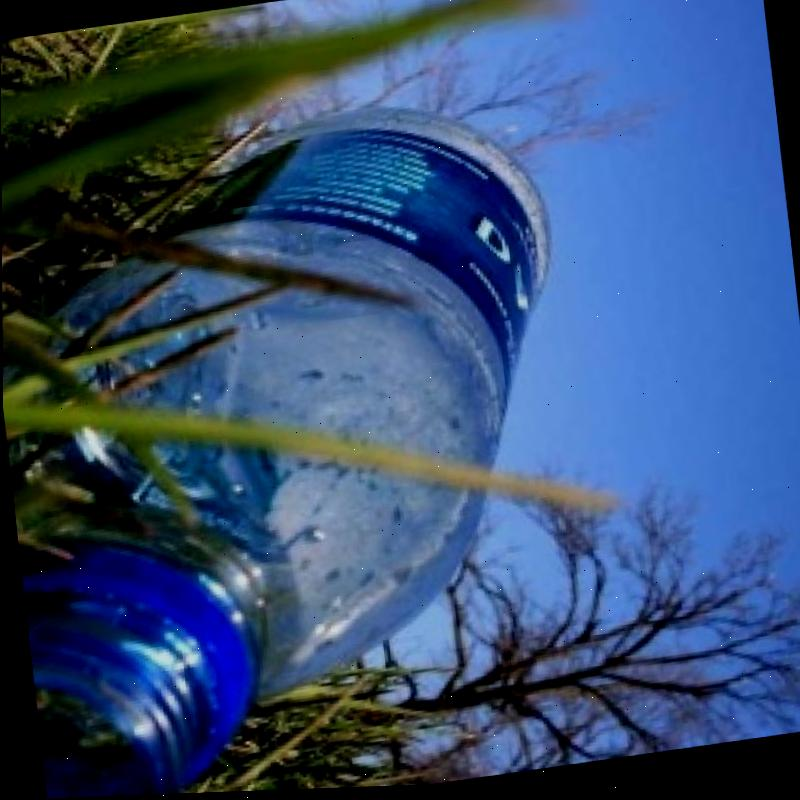botella: (1, 94, 607, 800)
